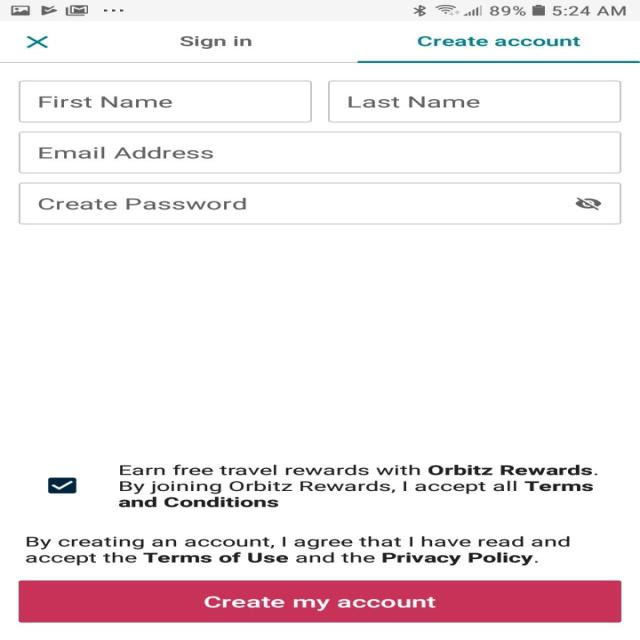EditText: (18, 182, 620, 225), (18, 132, 620, 174), (19, 80, 313, 122), (327, 80, 621, 122)
Icon: (574, 198, 601, 210), (26, 35, 48, 48)
Text: (118, 463, 598, 508), (25, 536, 570, 566), (38, 198, 246, 210), (39, 146, 213, 159), (417, 36, 580, 46), (39, 96, 173, 108), (348, 96, 480, 108), (180, 36, 252, 50)
TextButton: (19, 579, 622, 622)
